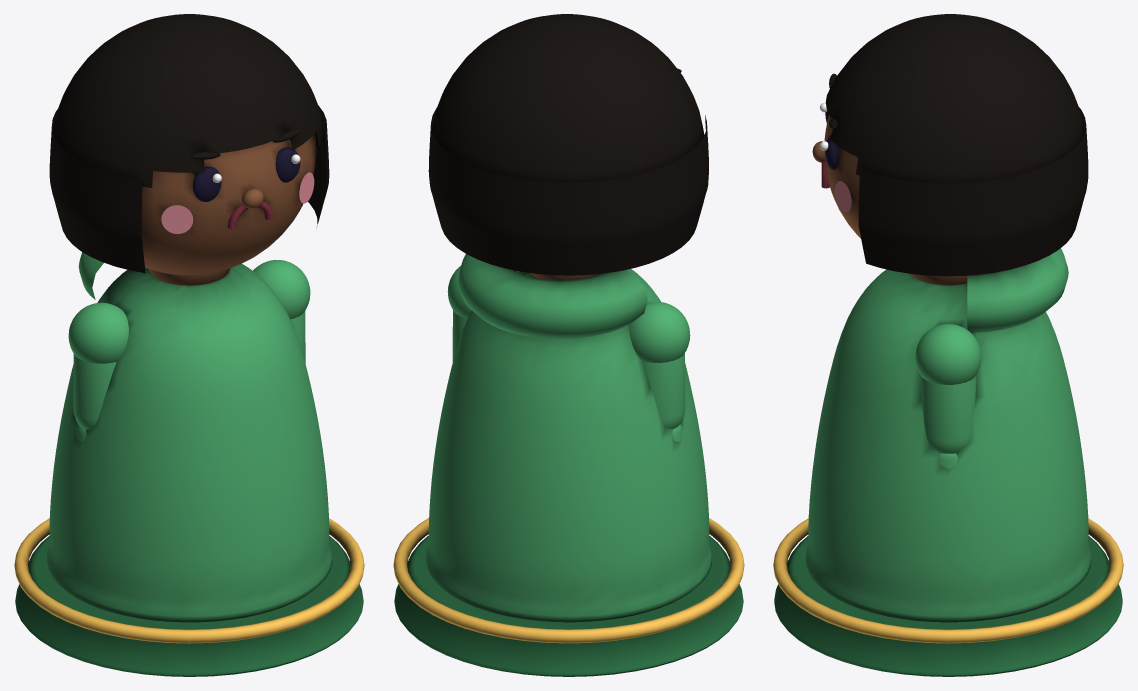
File: crew3.glb
3 renders of one model, left to right at view 1: azimuth 30°, elevation 25°; view 2: azimuth 150°, elevation 25°; view 3: azimuth 270°, elevation 25°, orthographic.
Parts seen in each view (by area): view 1: part_body.001, part_hair, part_base, part_head.001, part_locks, part_rim, part_cap_R, part_upper_R, part_cap_L, part_neck, part_cheek_R, eye_R (+2 smaller); view 2: part_body.001, part_hair, part_locks, part_base, part_hood, part_rim, part_cap_R, part_upper_R, part_cap_L; view 3: part_body.001, part_hair, part_locks, part_base, part_rim, part_hood, part_upper_L, part_cap_L, part_head.001.
Boxes of the visible parts, bbox=[...] form: part_body.001: bbox=[46, 263, 332, 622]; part_hair: bbox=[53, 14, 325, 187]; part_base: bbox=[15, 536, 363, 676]; part_head.001: bbox=[141, 132, 316, 275]; part_locks: bbox=[49, 105, 329, 273]; part_rim: bbox=[14, 518, 364, 643]; part_cap_R: bbox=[68, 302, 128, 363]; part_upper_R: bbox=[73, 354, 116, 429]; part_cap_L: bbox=[253, 260, 310, 319]; part_neck: bbox=[149, 268, 229, 285]; part_cheek_R: bbox=[161, 205, 193, 233]; eye_R: bbox=[192, 166, 221, 201]; part_body.001: bbox=[426, 269, 711, 622]; part_hair: bbox=[432, 14, 704, 182]; part_locks: bbox=[428, 108, 708, 275]; part_base: bbox=[394, 535, 743, 676]; part_hood: bbox=[458, 254, 647, 338]; part_rim: bbox=[393, 518, 744, 643]; part_cap_R: bbox=[629, 302, 690, 362]; part_upper_R: bbox=[642, 353, 685, 429]; part_cap_L: bbox=[447, 266, 471, 318]; part_body.001: bbox=[805, 269, 1091, 622]; part_hair: bbox=[825, 14, 1084, 183]; part_locks: bbox=[858, 107, 1088, 276]; part_base: bbox=[774, 536, 1122, 676]; part_rim: bbox=[773, 518, 1123, 643]; part_hood: bbox=[967, 248, 1068, 332]; part_upper_L: bbox=[920, 375, 976, 453]; part_cap_L: bbox=[915, 324, 981, 384]; part_head.001: bbox=[824, 115, 860, 238].
Bounding box in the file's own units: 0.656 × 1.19 × 0.656.
